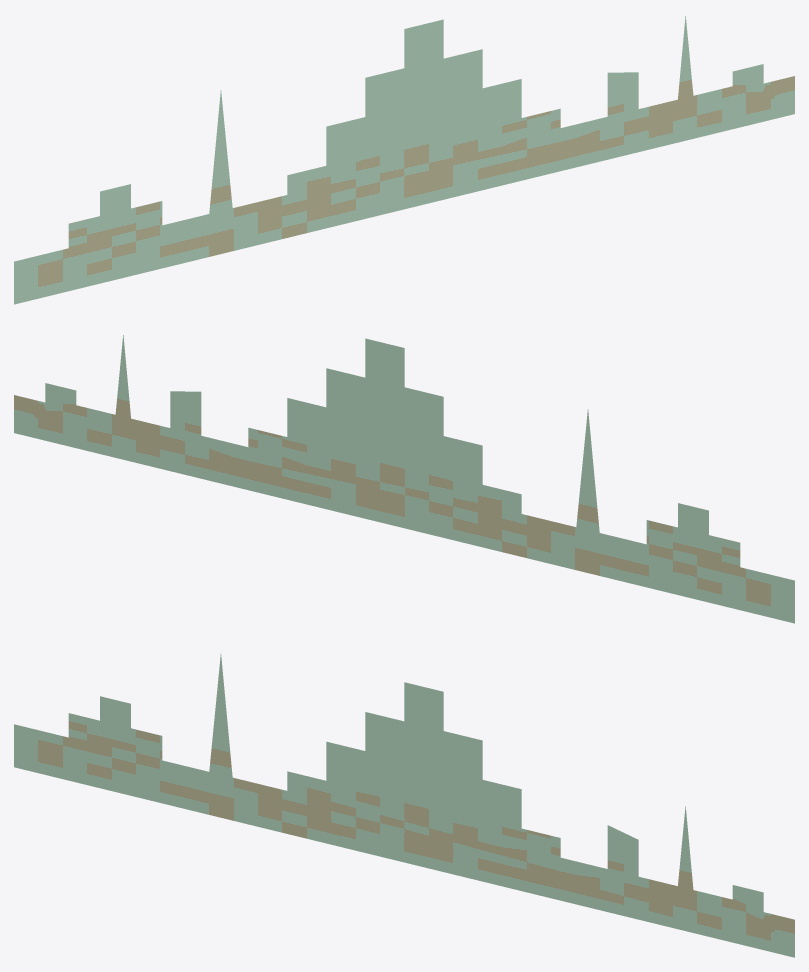
Rendered from land.skyline.glb.
The picture shows the model from 3 angles, top to bottom: view 1: azimuth 30°, elevation 25°; view 2: azimuth 150°, elevation 25°; view 3: azimuth 330°, elevation 25°; orthographic projection.
Visible parts, largest first — view 1: kit_shell_skyline; view 2: kit_shell_skyline; view 3: kit_shell_skyline.
Boxes of the visible parts, left/top/right/bottom form: kit_shell_skyline: left=14, top=16, right=794, bottom=304; kit_shell_skyline: left=14, top=335, right=794, bottom=623; kit_shell_skyline: left=14, top=653, right=794, bottom=957.
Size of the model in its own units: 60 by 13.24 by 0.
1 material, 1 textured.
